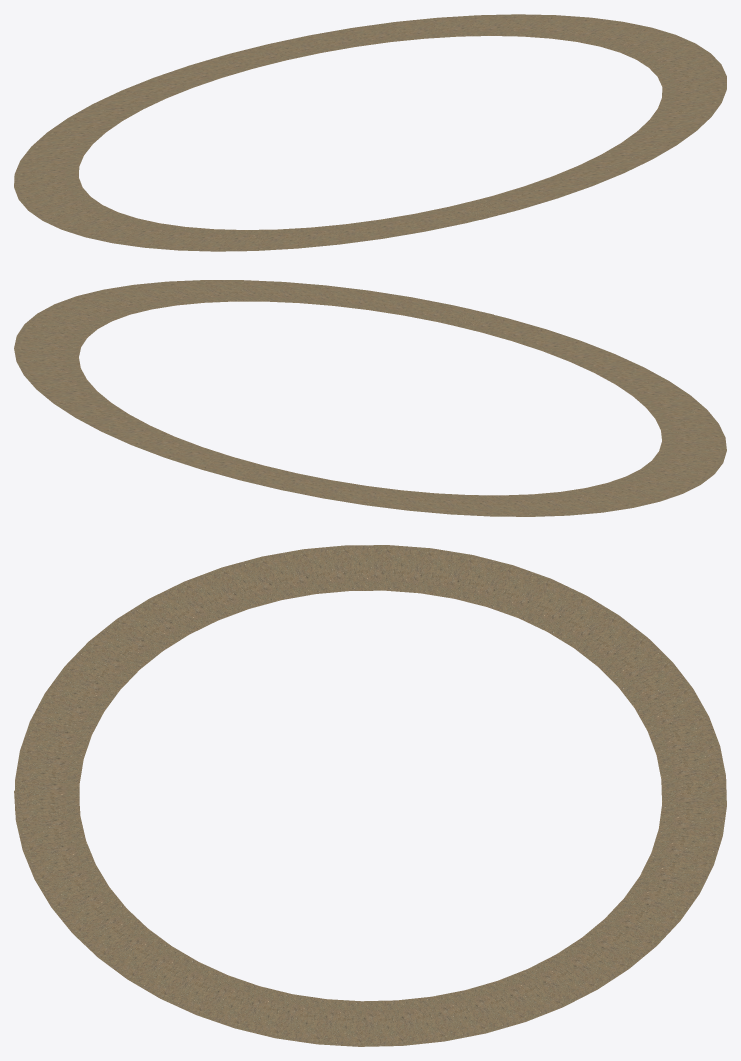
The model's file is dirt_path.dae.
3 views of the same model, one above another, from view 1: azimuth 30°, elevation 25°; view 2: azimuth 150°, elevation 25°; view 3: azimuth 270°, elevation 25° (orthographic). The views are drawn at different scales.
Visible parts, largest first — view 1: Plane; view 2: Plane; view 3: Plane.
Boxes of the visible parts, left/top/right/bottom form: Plane: left=14, top=14, right=726, bottom=251; Plane: left=14, top=280, right=726, bottom=516; Plane: left=14, top=545, right=726, bottom=1046.
Size of the model in its own units: 10.97 by 6.59 by 0.
1 material, 1 textured.
